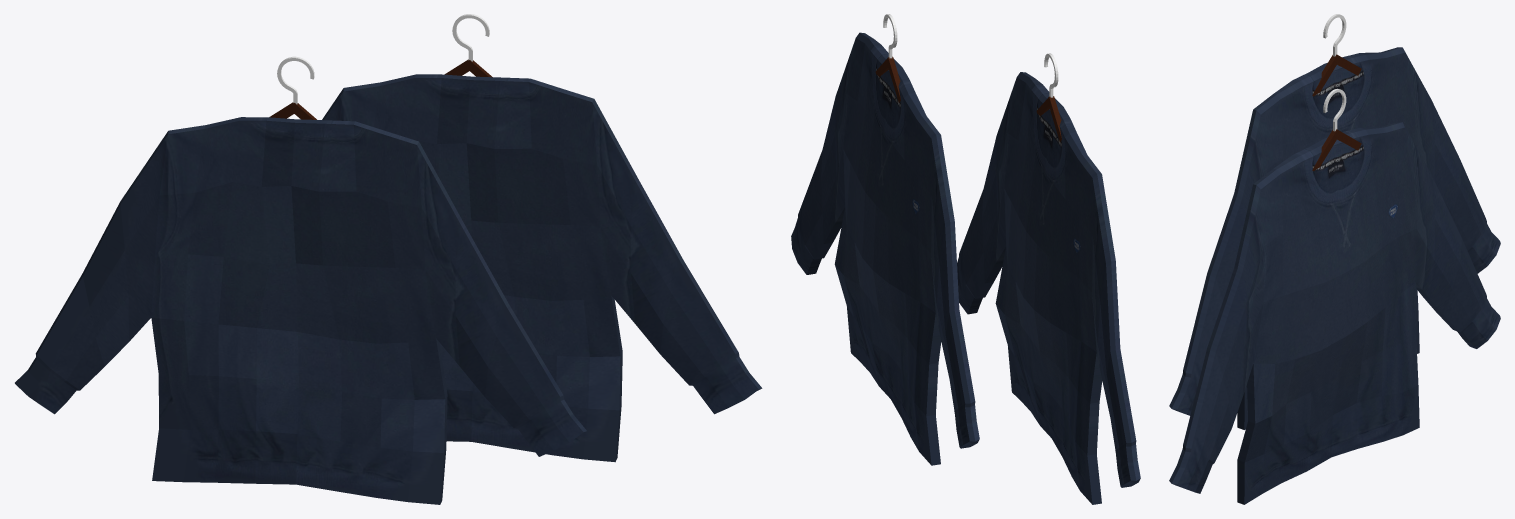
Rendered from crwnckblue.glb.
3 views of the same model, side by side, from view 1: azimuth 30°, elevation 25°; view 2: azimuth 150°, elevation 25°; view 3: azimuth 270°, elevation 25° (orthographic). The views are drawn at different scales.
Parts seen in each view (by area): view 1: Plane.381; view 2: Plane.381; view 3: Plane.381.
Boxes of the visible parts, bbox=[...] form: Plane.381: bbox=[15, 14, 762, 504]; Plane.381: bbox=[791, 14, 1140, 504]; Plane.381: bbox=[1169, 14, 1500, 504].
Bounding box in the file's own units: 0.4705 × 0.3454 × 0.2751.
3 materials, 3 textured.
